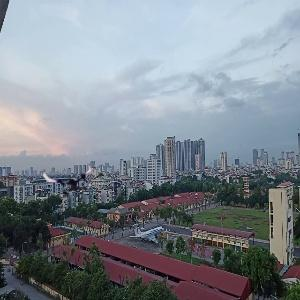drone: (49, 157, 98, 206)
